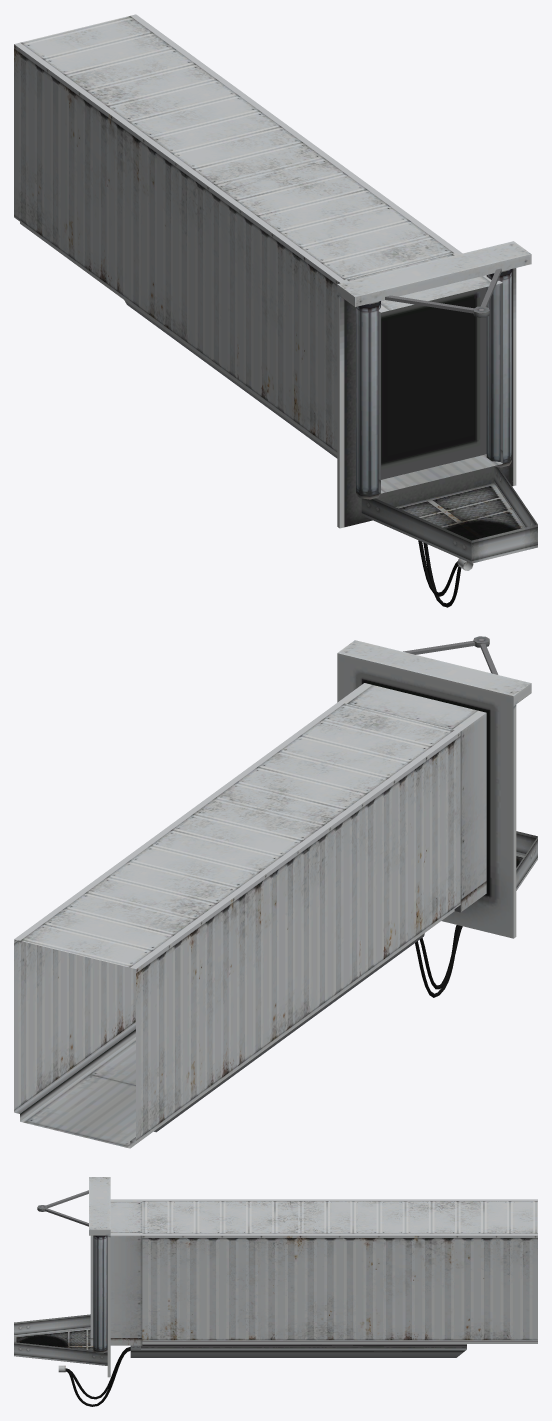
The model's file is jw_tunnel_2_5a.gltf.
3 renders of one model, top to bottom at view 1: azimuth 30°, elevation 25°; view 2: azimuth 150°, elevation 25°; view 3: azimuth 270°, elevation 25°, orthographic. The views are drawn at different scales.
Visible parts, largest first — view 1: jw_tunnel_2_5a; view 2: jw_tunnel_2_5a; view 3: jw_tunnel_2_5a.
Boxes of the visible parts, x1=… form: jw_tunnel_2_5a: x1=14, y1=14, x2=537, y2=607; jw_tunnel_2_5a: x1=14, y1=636, x2=537, y2=1148; jw_tunnel_2_5a: x1=14, y1=1177, x2=537, y2=1406.
Size of the model in its own units: 2.4 by 4.33 by 10.12.
